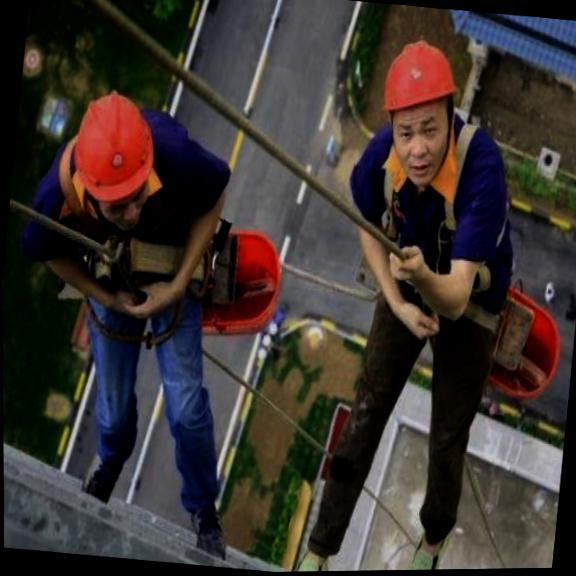no_safety_vest: (10, 87, 233, 317), (333, 117, 535, 351)
